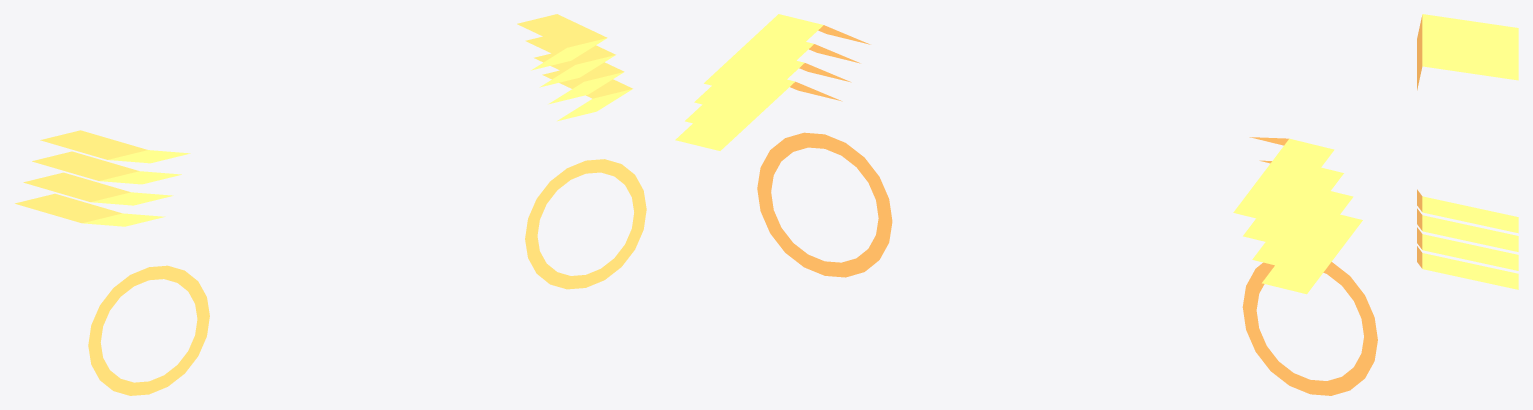
Rendered from ROOK_ASCENDED.glb.
3 renders of one model, left to right at view 1: azimuth 30°, elevation 25°; view 2: azimuth 150°, elevation 25°; view 3: azimuth 270°, elevation 25°, orthographic. The views are drawn at different scales.
Visible parts, largest first — view 1: ANI08C_rook-ironside_2_joint_R, ANI08C_rook-ironside_2_joint_L, ANI08C_rook-ironside_2_stratum_L3, ANI08C_rook-ironside_2_stratum_L2, ANI08C_rook-ironside_2_stratum_L0, ANI08C_rook-ironside_2_stratum_L1, ANI08C_rook-ironside_2_stratum_R0, ANI08C_rook-ironside_2_stratum_R1, ANI08C_rook-ironside_2_stratum_R3, ANI08C_rook-ironside_2_stratum_R2; view 2: ANI08C_rook-ironside_2_joint_R, ANI08C_rook-ironside_2_joint_L, ANI08C_rook-ironside_2_stratum_R0, ANI08C_rook-ironside_2_stratum_L0, ANI08C_rook-ironside_2_stratum_L1, ANI08C_rook-ironside_2_stratum_L3, ANI08C_rook-ironside_2_stratum_L2, ANI08C_rook-ironside_2_stratum_R2, ANI08C_rook-ironside_2_stratum_R3, ANI08C_rook-ironside_2_stratum_R1; view 3: ANI08C_rook-ironside_2_stratum_L0, ANI08C_rook-ironside_2_stratum_R0, ANI08C_rook-ironside_2_stratum_R3, ANI08C_rook-ironside_2_stratum_R1, ANI08C_rook-ironside_2_stratum_R2, ANI08C_rook-ironside_2_stratum_L3, ANI08C_rook-ironside_2_stratum_L1, ANI08C_rook-ironside_2_stratum_L2.
Boxes of the visible parts, x1,y1,x2,y2 form: ANI08C_rook-ironside_2_joint_R: (525, 159, 646, 289); ANI08C_rook-ironside_2_joint_L: (88, 265, 209, 395); ANI08C_rook-ironside_2_stratum_L3: (15, 193, 165, 226); ANI08C_rook-ironside_2_stratum_L2: (23, 172, 173, 205); ANI08C_rook-ironside_2_stratum_L0: (40, 130, 190, 163); ANI08C_rook-ironside_2_stratum_L1: (32, 151, 181, 184); ANI08C_rook-ironside_2_stratum_R0: (517, 14, 607, 70); ANI08C_rook-ironside_2_stratum_R1: (525, 36, 615, 87); ANI08C_rook-ironside_2_stratum_R3: (542, 70, 632, 121); ANI08C_rook-ironside_2_stratum_R2: (534, 53, 624, 104); ANI08C_rook-ironside_2_joint_R: (757, 132, 892, 277); ANI08C_rook-ironside_2_joint_L: (1242, 262, 1377, 395); ANI08C_rook-ironside_2_stratum_R0: (704, 14, 870, 94); ANI08C_rook-ironside_2_stratum_L0: (1233, 137, 1334, 223); ANI08C_rook-ironside_2_stratum_L1: (1243, 160, 1343, 247); ANI08C_rook-ironside_2_stratum_L3: (1262, 214, 1362, 294); ANI08C_rook-ironside_2_stratum_L2: (1252, 191, 1353, 270); ANI08C_rook-ironside_2_stratum_R2: (685, 60, 851, 132); ANI08C_rook-ironside_2_stratum_R3: (675, 79, 842, 150); ANI08C_rook-ironside_2_stratum_R1: (694, 42, 860, 113); ANI08C_rook-ironside_2_stratum_L0: (1417, 14, 1518, 53); ANI08C_rook-ironside_2_stratum_R0: (1417, 189, 1518, 233); ANI08C_rook-ironside_2_stratum_R3: (1417, 246, 1518, 289); ANI08C_rook-ironside_2_stratum_R1: (1417, 208, 1518, 251); ANI08C_rook-ironside_2_stratum_R2: (1417, 227, 1518, 270); ANI08C_rook-ironside_2_stratum_L3: (1417, 54, 1518, 90); ANI08C_rook-ironside_2_stratum_L1: (1417, 30, 1518, 66); ANI08C_rook-ironside_2_stratum_L2: (1417, 42, 1518, 78).
Bounding box in the file's own units: 0.9997 × 0.395 × 0.21.
